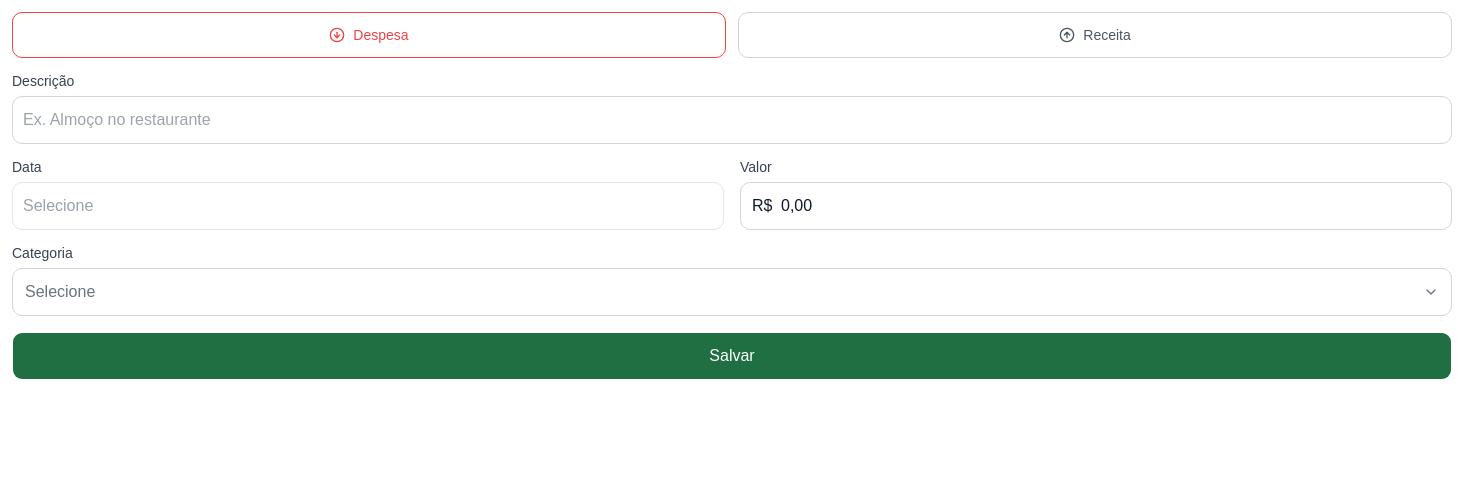
Scenario: TransactionForm › shows "A descrição é obrigatória" when description is submitted empty
Click the button "Salvar" at (732, 356), box top-left (12, 332), bottom-right (1452, 380)
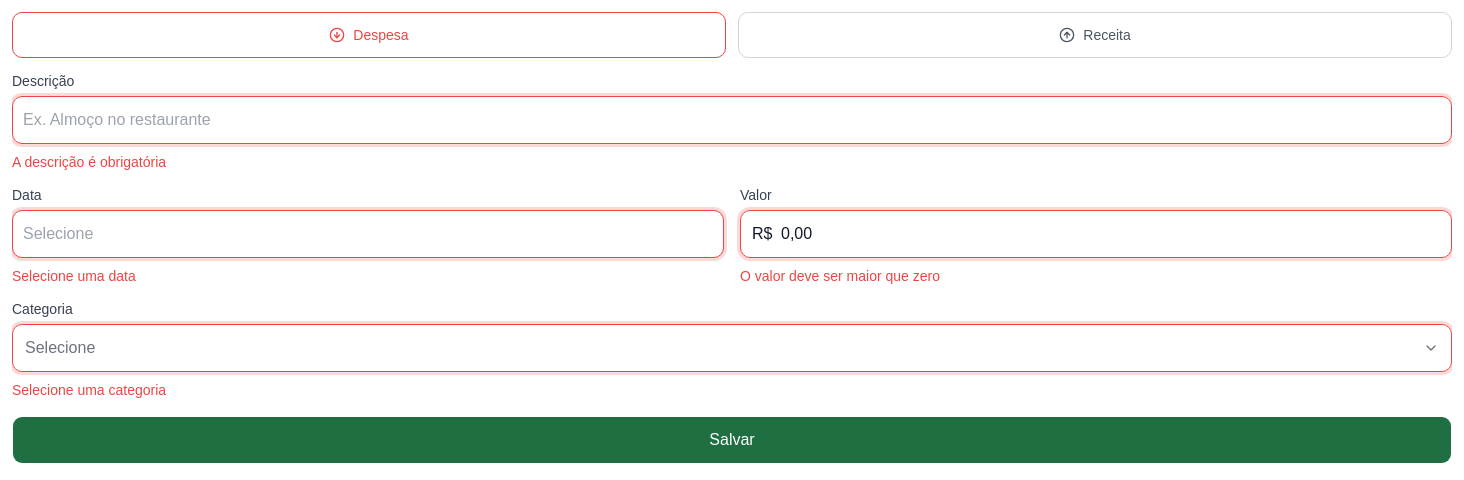
Result: the text "A descrição é obrigatória" is shown at top-left (12, 154), bottom-right (166, 170)
